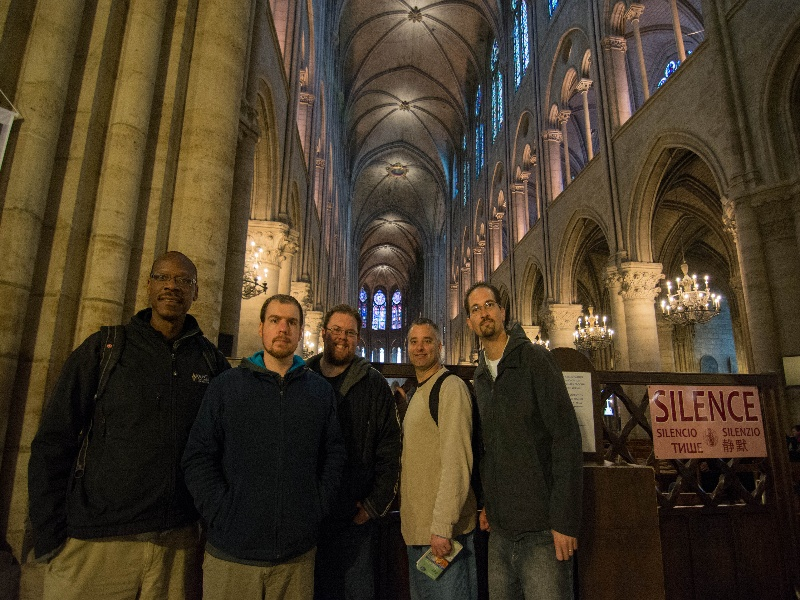face: (139, 250, 203, 330), (258, 294, 305, 363), (461, 282, 508, 345), (322, 306, 362, 367), (401, 315, 443, 372)
